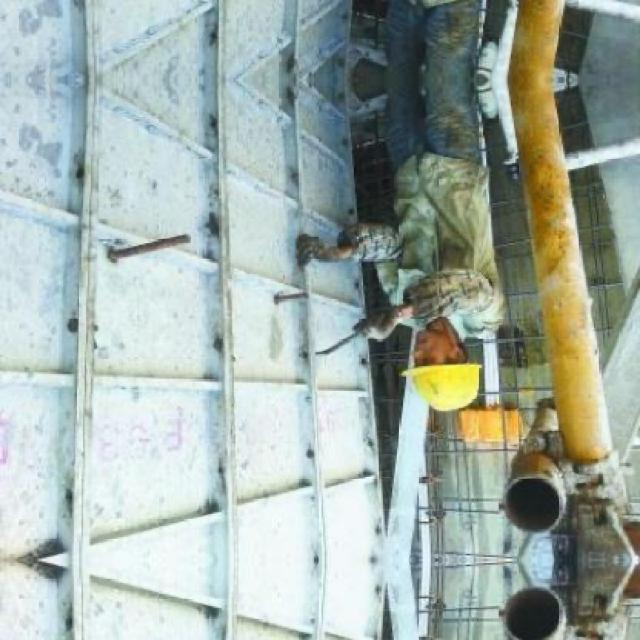con casco: (358, 302, 520, 435)
